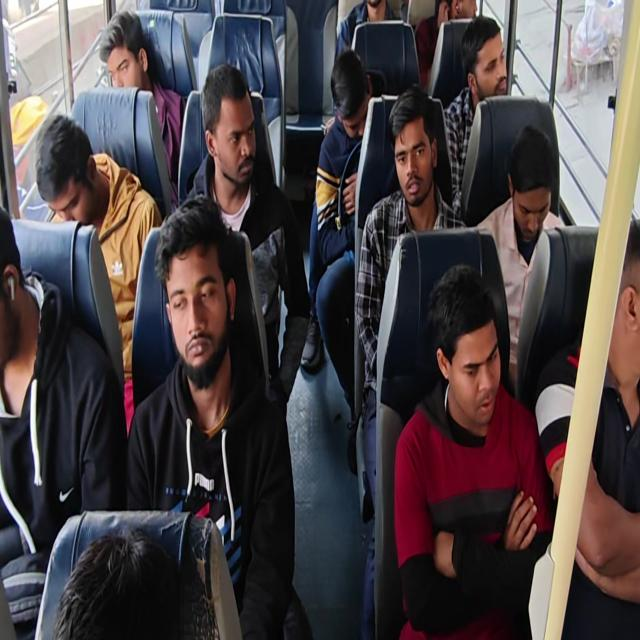person: (1, 2, 638, 638), (125, 193, 301, 638), (354, 85, 467, 637), (393, 262, 555, 638), (0, 205, 128, 638), (534, 214, 640, 638), (184, 62, 311, 412), (34, 112, 163, 437), (306, 48, 376, 468), (474, 124, 565, 394), (98, 8, 187, 196), (52, 526, 181, 639), (443, 15, 508, 216), (414, 0, 478, 89), (334, 0, 402, 62)
